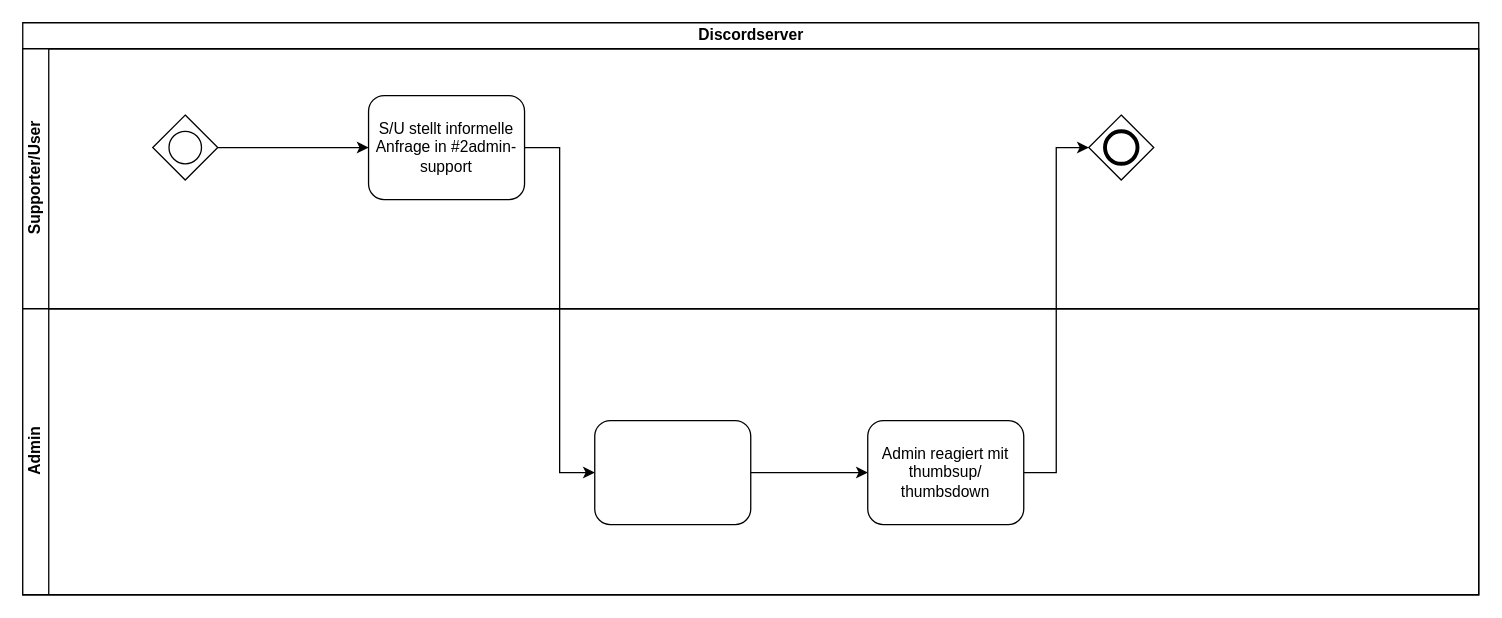
This 1502x618 diagram has some shape labels left out. Here are the shapes that lost their labels. From the top down, the box of each, then its label:
(151, 114, 218, 180): S/U möchte seine Rolle wechseln
(1087, 114, 1154, 180): User hat die entsprechende Rolle
(593, 419, 751, 525): Admin stellt Rolle um
